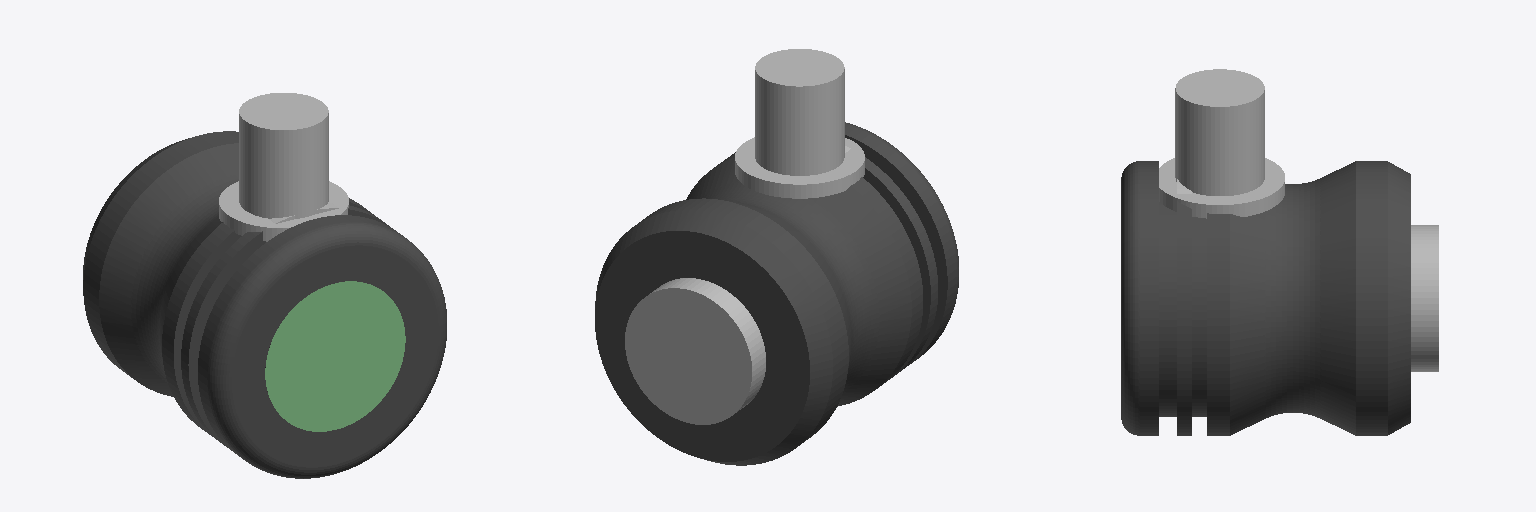
Rendered from Panametrics_UT_v5.obj.
The picture shows the model from 3 angles: view 1: azimuth 30°, elevation 25°; view 2: azimuth 150°, elevation 25°; view 3: azimuth 270°, elevation 25°; orthographic projection.
Parts seen in each view (by area): view 1: Body2, Body1; view 2: Body2, Body1; view 3: Body2, Body1.
Boxes of the visible parts, <box> form: Body2: <box>83,131,446,478</box>; Body1: <box>219,93,348,241</box>; Body2: <box>595,122,958,465</box>; Body1: <box>735,49,864,198</box>; Body2: <box>1121,161,1438,435</box>; Body1: <box>1159,69,1284,218</box>.
Size of the model in its own units: 0.7459 by 1 by 0.8624.